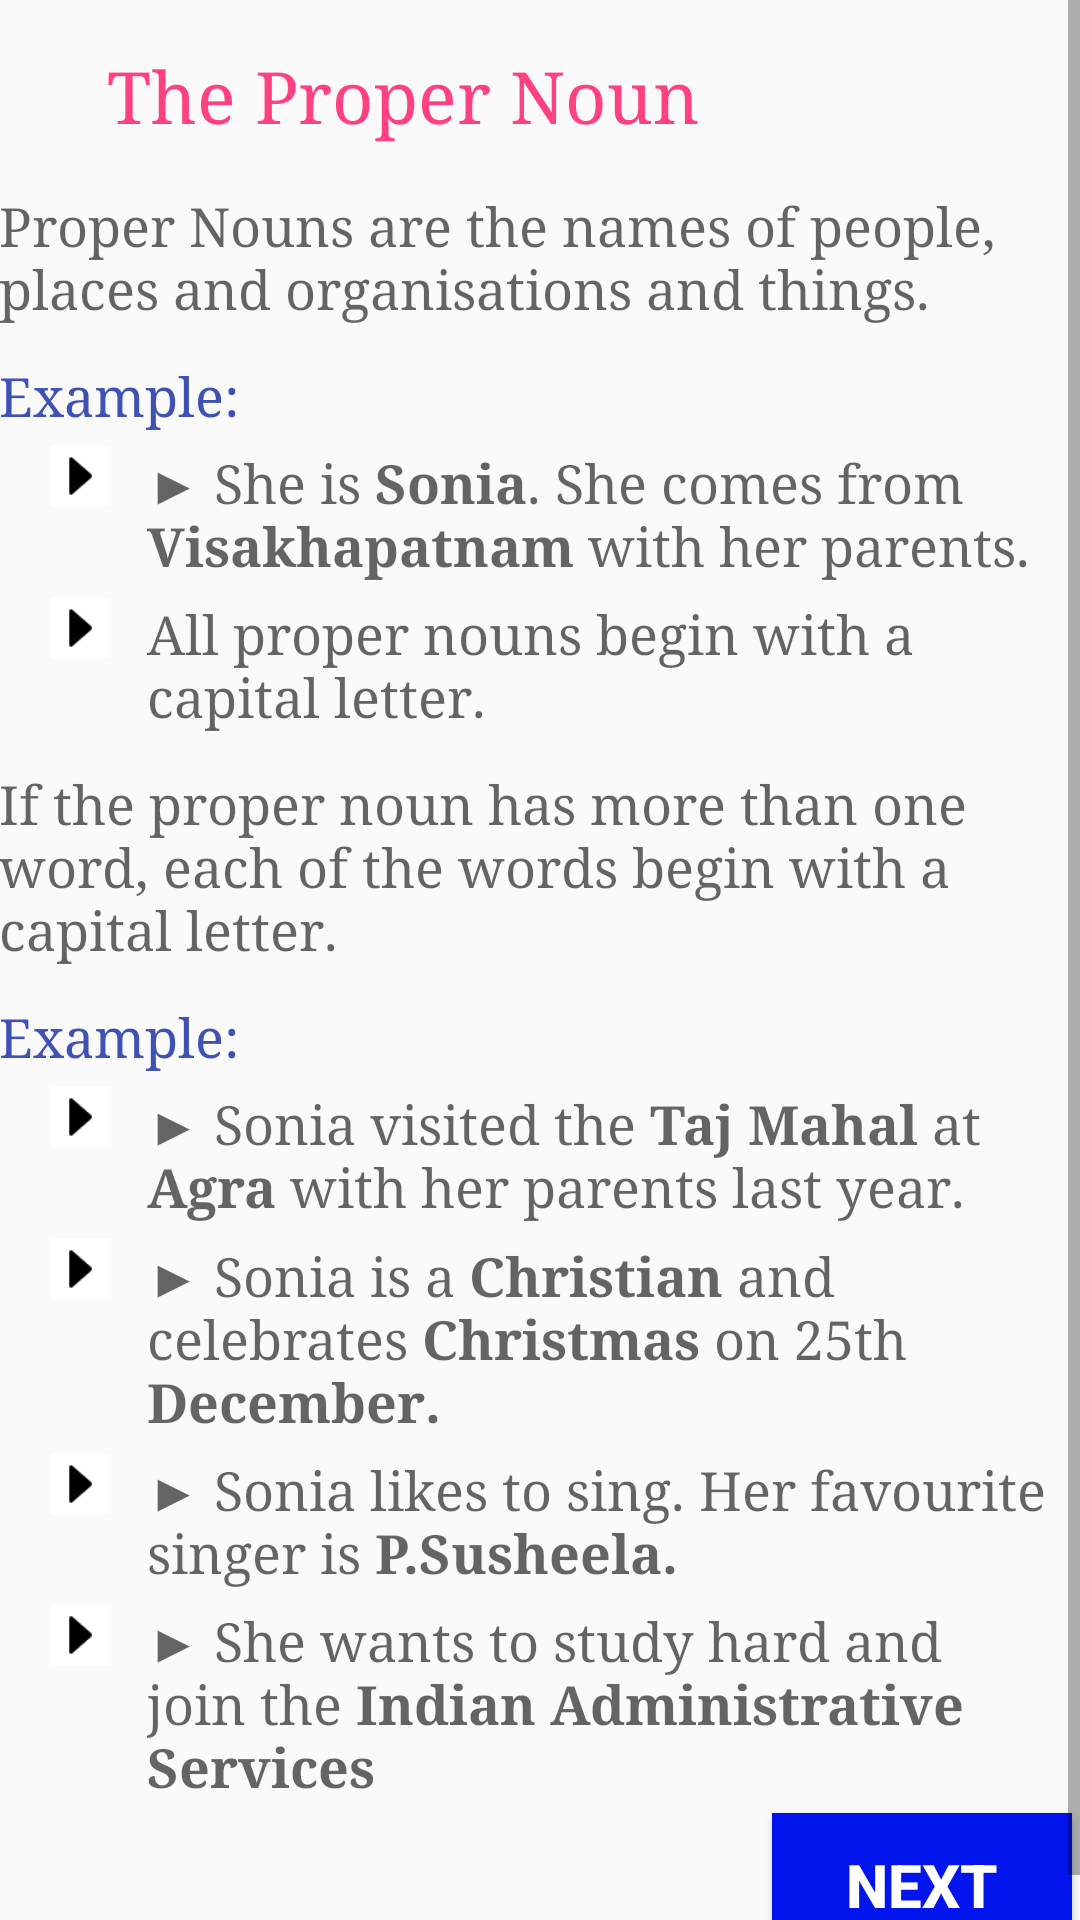

Screen size 1080w x 1920h. Icon name, then its center in pixels as (x,y):
arrow: (80,476), (80,628), (80,1117), (80,1269), (80,1484), (80,1635)
